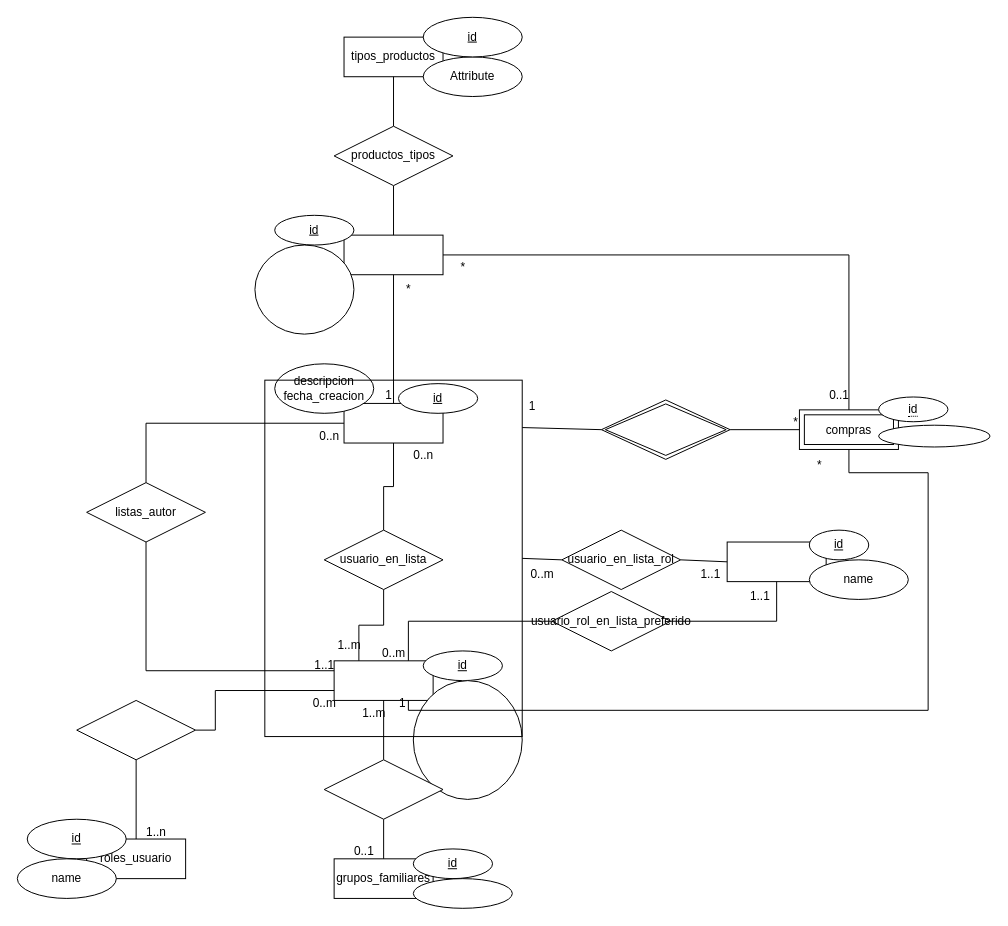
Some shapes in this 1008 by 926 pixel diagram are drawn without their labels. The shapes that lost their labels are listed below. From the top down, each one's centre as x and y in pixels, then its label:
At [393,254]: "productos".
At [304,289]: "descripcion precio cantidad esta_en_carrito".
At [393,422]: "listas".
At [665,429]: "compras_usuario".
At [934,435]: "fecha_compra".
At [776,561]: "roles_en_lista".
At [383,680]: "usuarios".
At [136,729]: "usuarios_rol".
At [467,739]: "nombre apellido email email_confirmed_at imagen_perfil password fecha_creacion".
At [383,789]: "usuarios_grupo".
At [462,893]: "nombre_familia".
